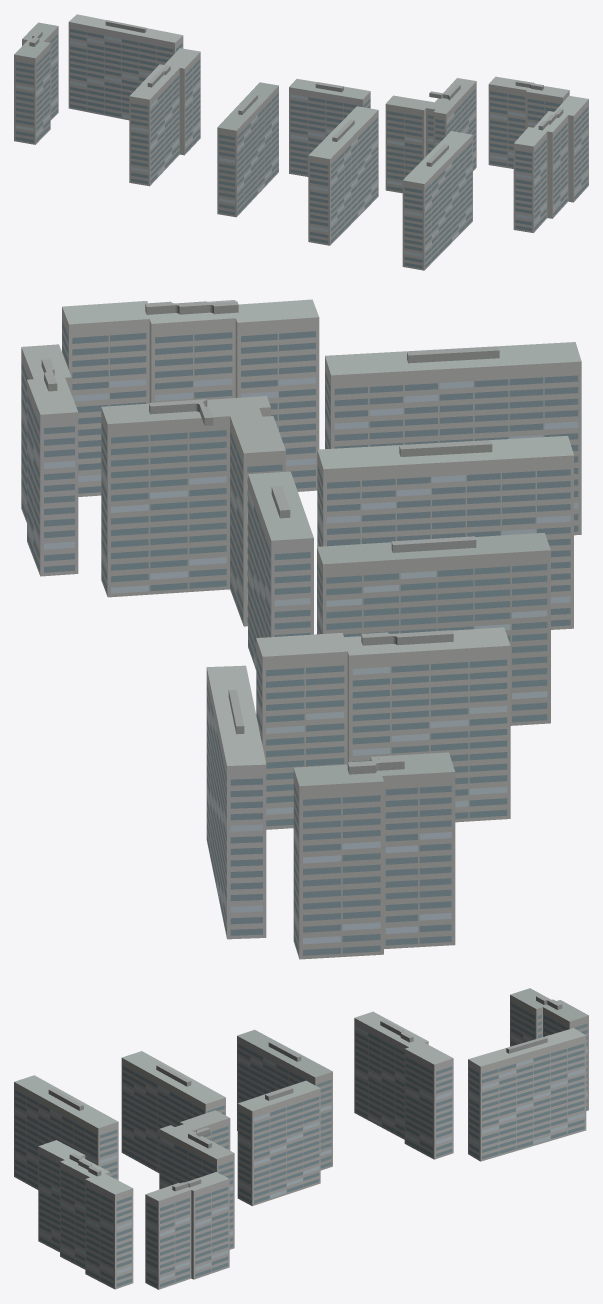
Rendered from apt-a13789203.glb.
3 views of the same model, one above another, from view 1: azimuth 30°, elevation 25°; view 2: azimuth 150°, elevation 25°; view 3: azimuth 270°, elevation 25° (orthographic). The views are drawn at different scales.
Visible parts, largest first — view 1: apt-a13789203; view 2: apt-a13789203; view 3: apt-a13789203.
Boxes of the visible parts, x1,y1,x2,y2 form: apt-a13789203: (14,14,588,270); apt-a13789203: (21,299,581,959); apt-a13789203: (14,988,588,1289).
Bounding box in the file's own units: 214 × 47.81 × 251.
